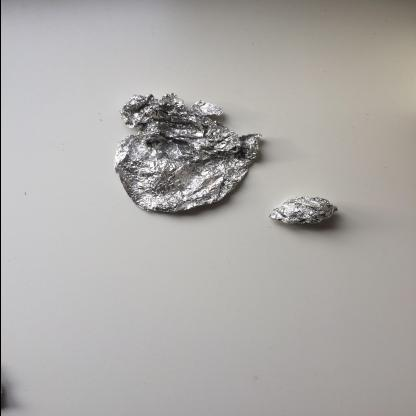metal: (113, 94, 265, 217), (268, 196, 339, 228)
